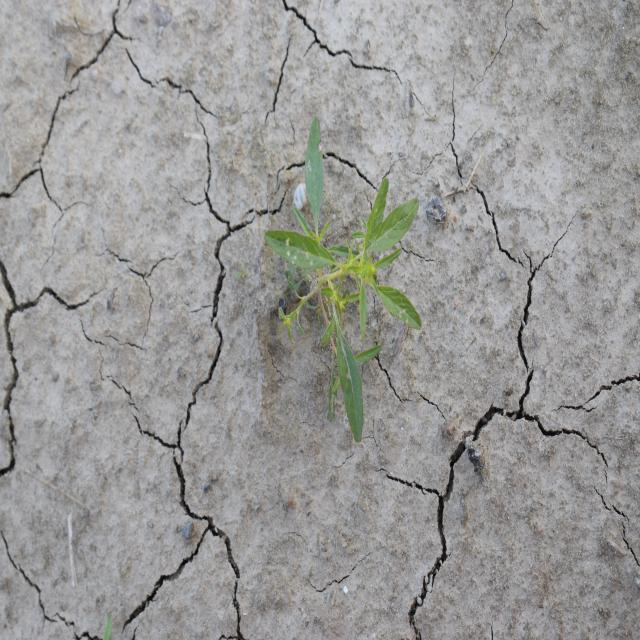Waterhemp: (262, 114, 424, 446)
